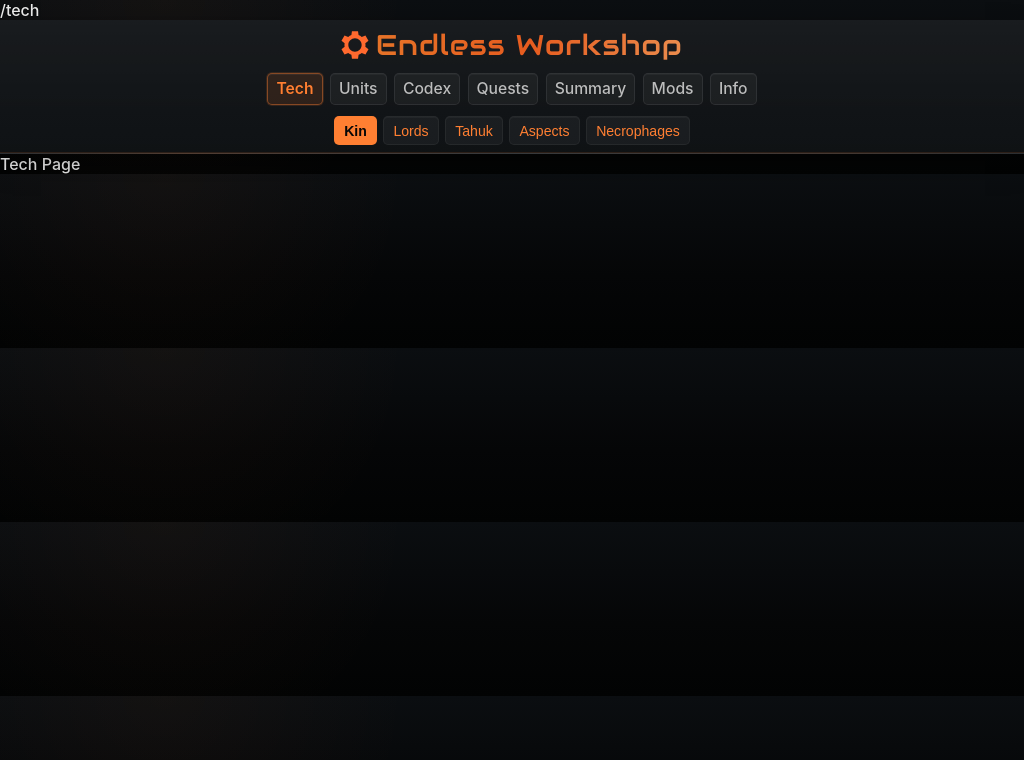
Scenario: ModsPage › adds a working Mods nav entry in the top container
Expected: the text with test id "location-probe" reads "/tech", x1=0 y1=0 x2=40 y2=20
Click the link "Mods".
click(673, 89)  # box x1=643 y1=73 x2=702 y2=105
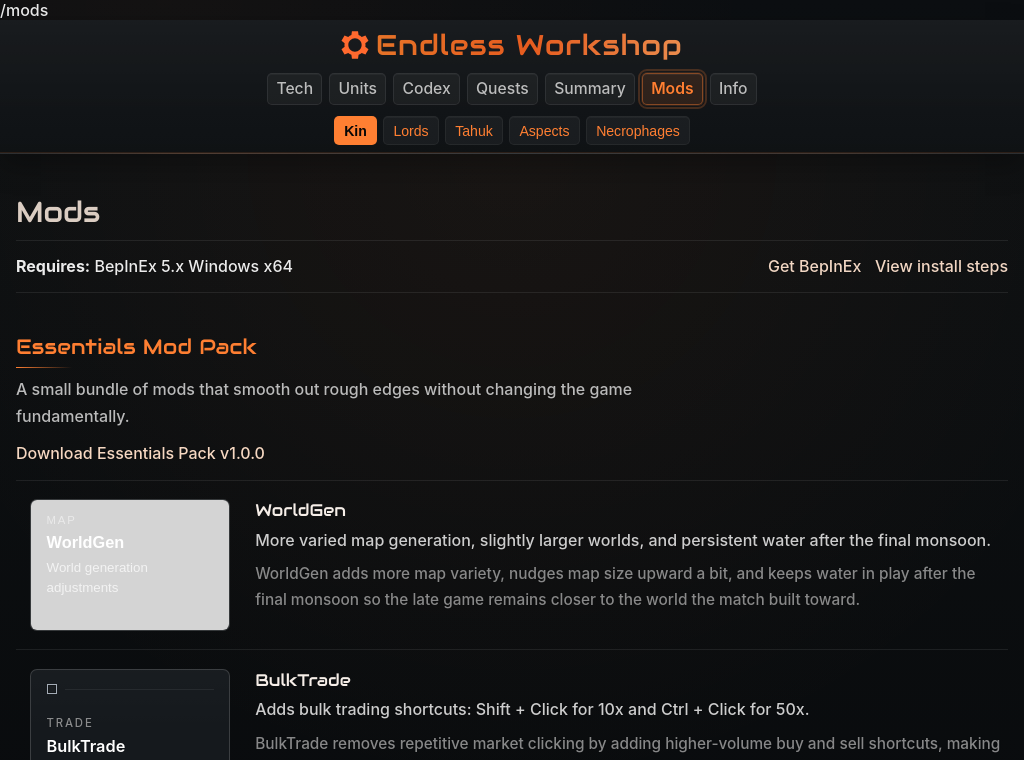
Expected: the text with test id "location-probe" reads "/mods", x1=0 y1=0 x2=48 y2=20
Expected: the heading "Essentials Mod Pack" is shown, x1=16 y1=332 x2=257 y2=360
Expected: the heading "WorldGen" is shown, x1=255 y1=499 x2=346 y2=521
